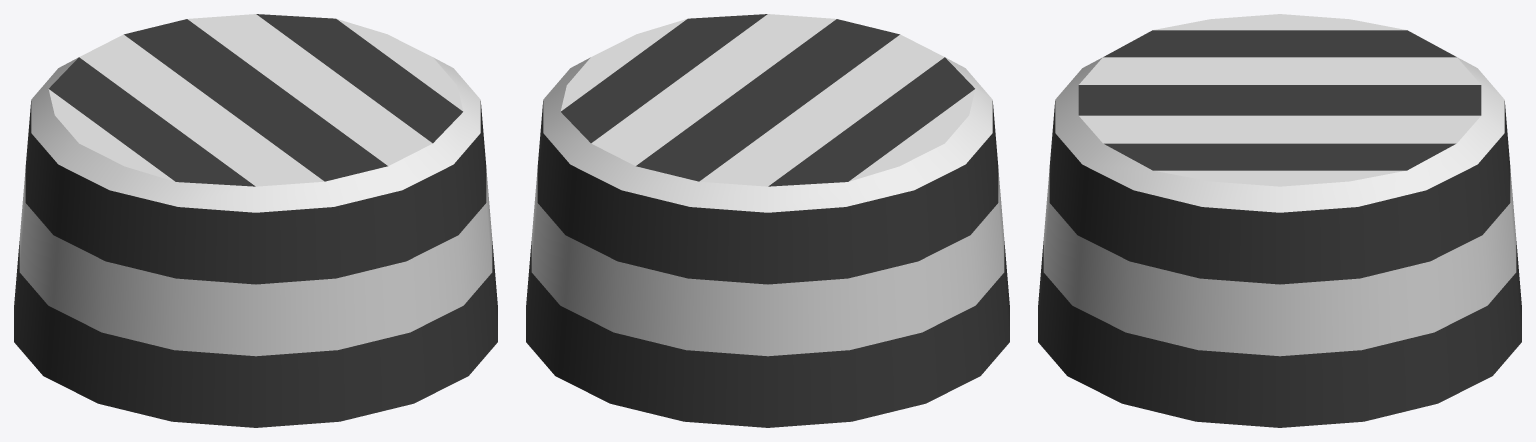
Rendered from Prisoner_Hat.fbx.
3 renders of one model, left to right at view 1: azimuth 30°, elevation 25°; view 2: azimuth 150°, elevation 25°; view 3: azimuth 270°, elevation 25°, orthographic.
Visible parts, largest first — view 1: Prisoner_Hat; view 2: Prisoner_Hat; view 3: Prisoner_Hat.
Part boxes in pixels (<box>): Prisoner_Hat: <box>14,14,497,427</box>; Prisoner_Hat: <box>526,14,1009,427</box>; Prisoner_Hat: <box>1038,14,1521,427</box>.
Size of the model in its own units: 0.3433 by 0.1726 by 0.3381.
